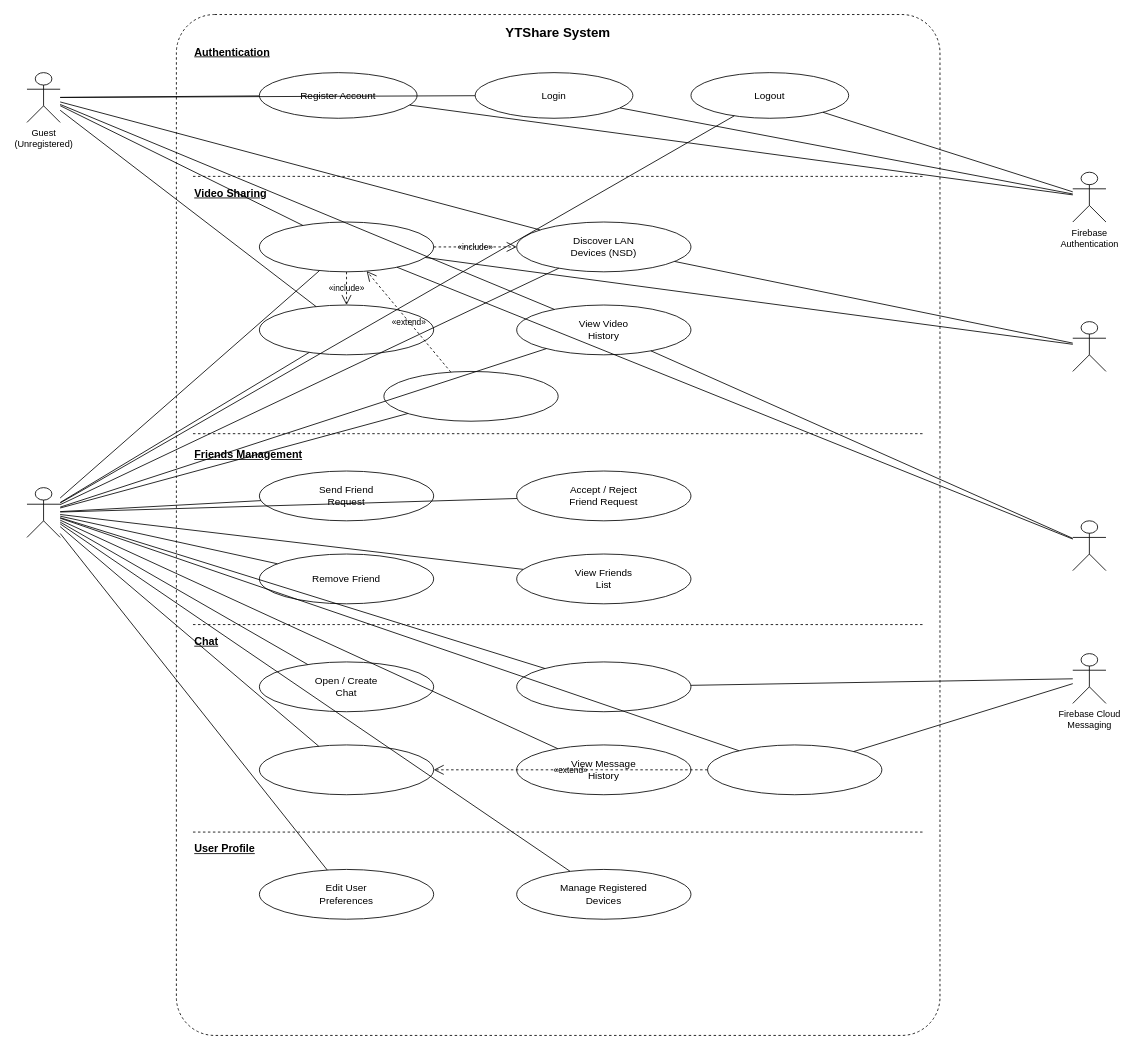
This 1135x1050 diagram has some shape labels left out. The centre of each missing label's shape, as x and y in pixels:
Receive Push Notification: [794,769]
Receive Real-time Message: [346,769]
Registered User: [43,512]
Select Target Device: [346,329]
Send Message: [603,686]
Share YouTube Video to Desktop: [346,246]
Sync Offline Videos: [470,396]
YouTube oEmbed API: [1089,545]
YTShare Host (Desktop): [1089,346]
